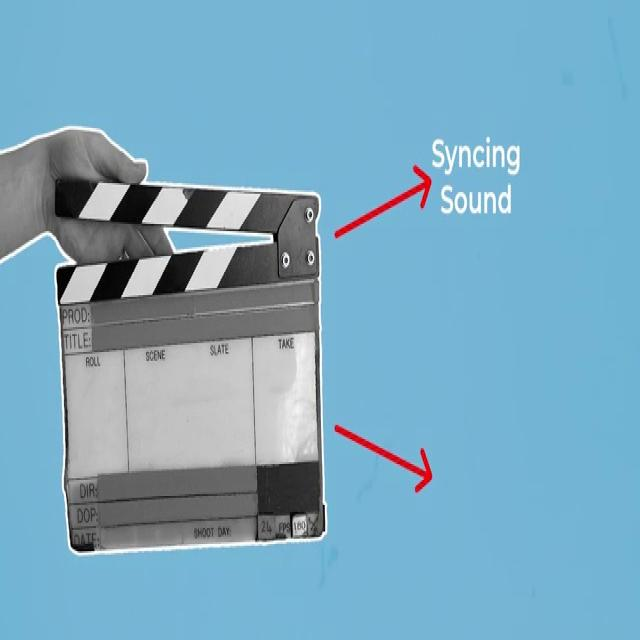Clapperboard: (51, 171, 330, 558)
